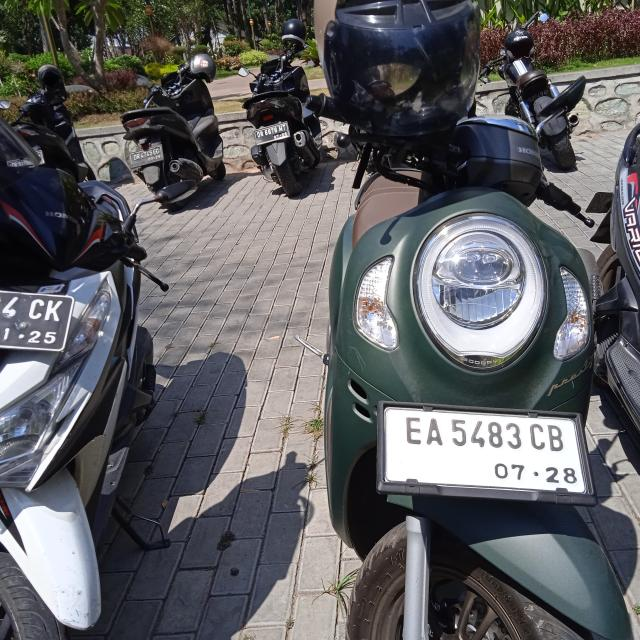plate: (377, 408, 593, 505), (254, 121, 290, 146)
